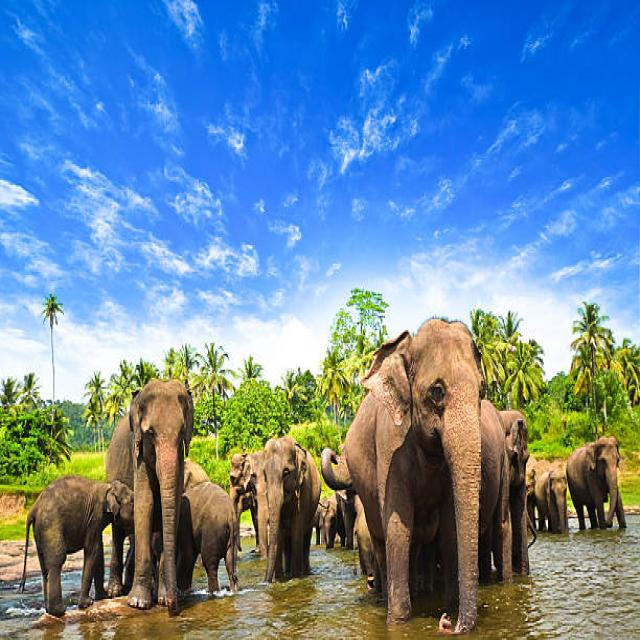Elephant: (338, 316, 493, 640), (125, 369, 202, 636), (19, 470, 146, 626), (255, 431, 327, 590), (562, 426, 628, 522)
